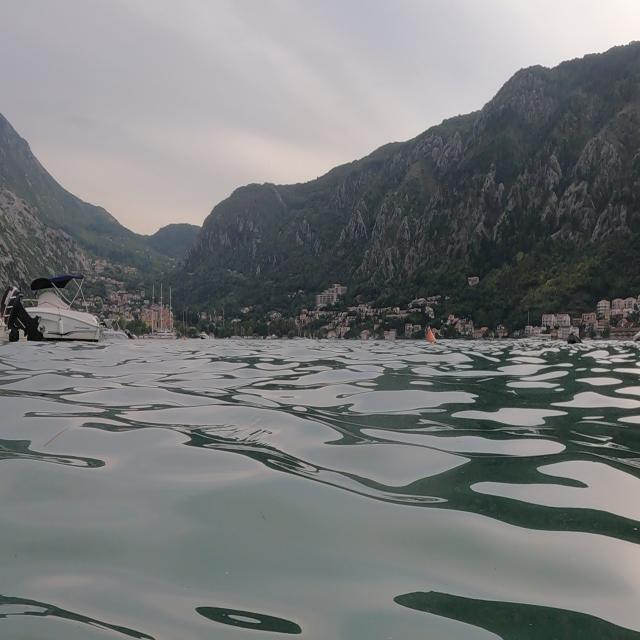boat: (5, 268, 104, 346), (146, 270, 181, 349)
buoy: (566, 326, 591, 354), (424, 319, 442, 348)
